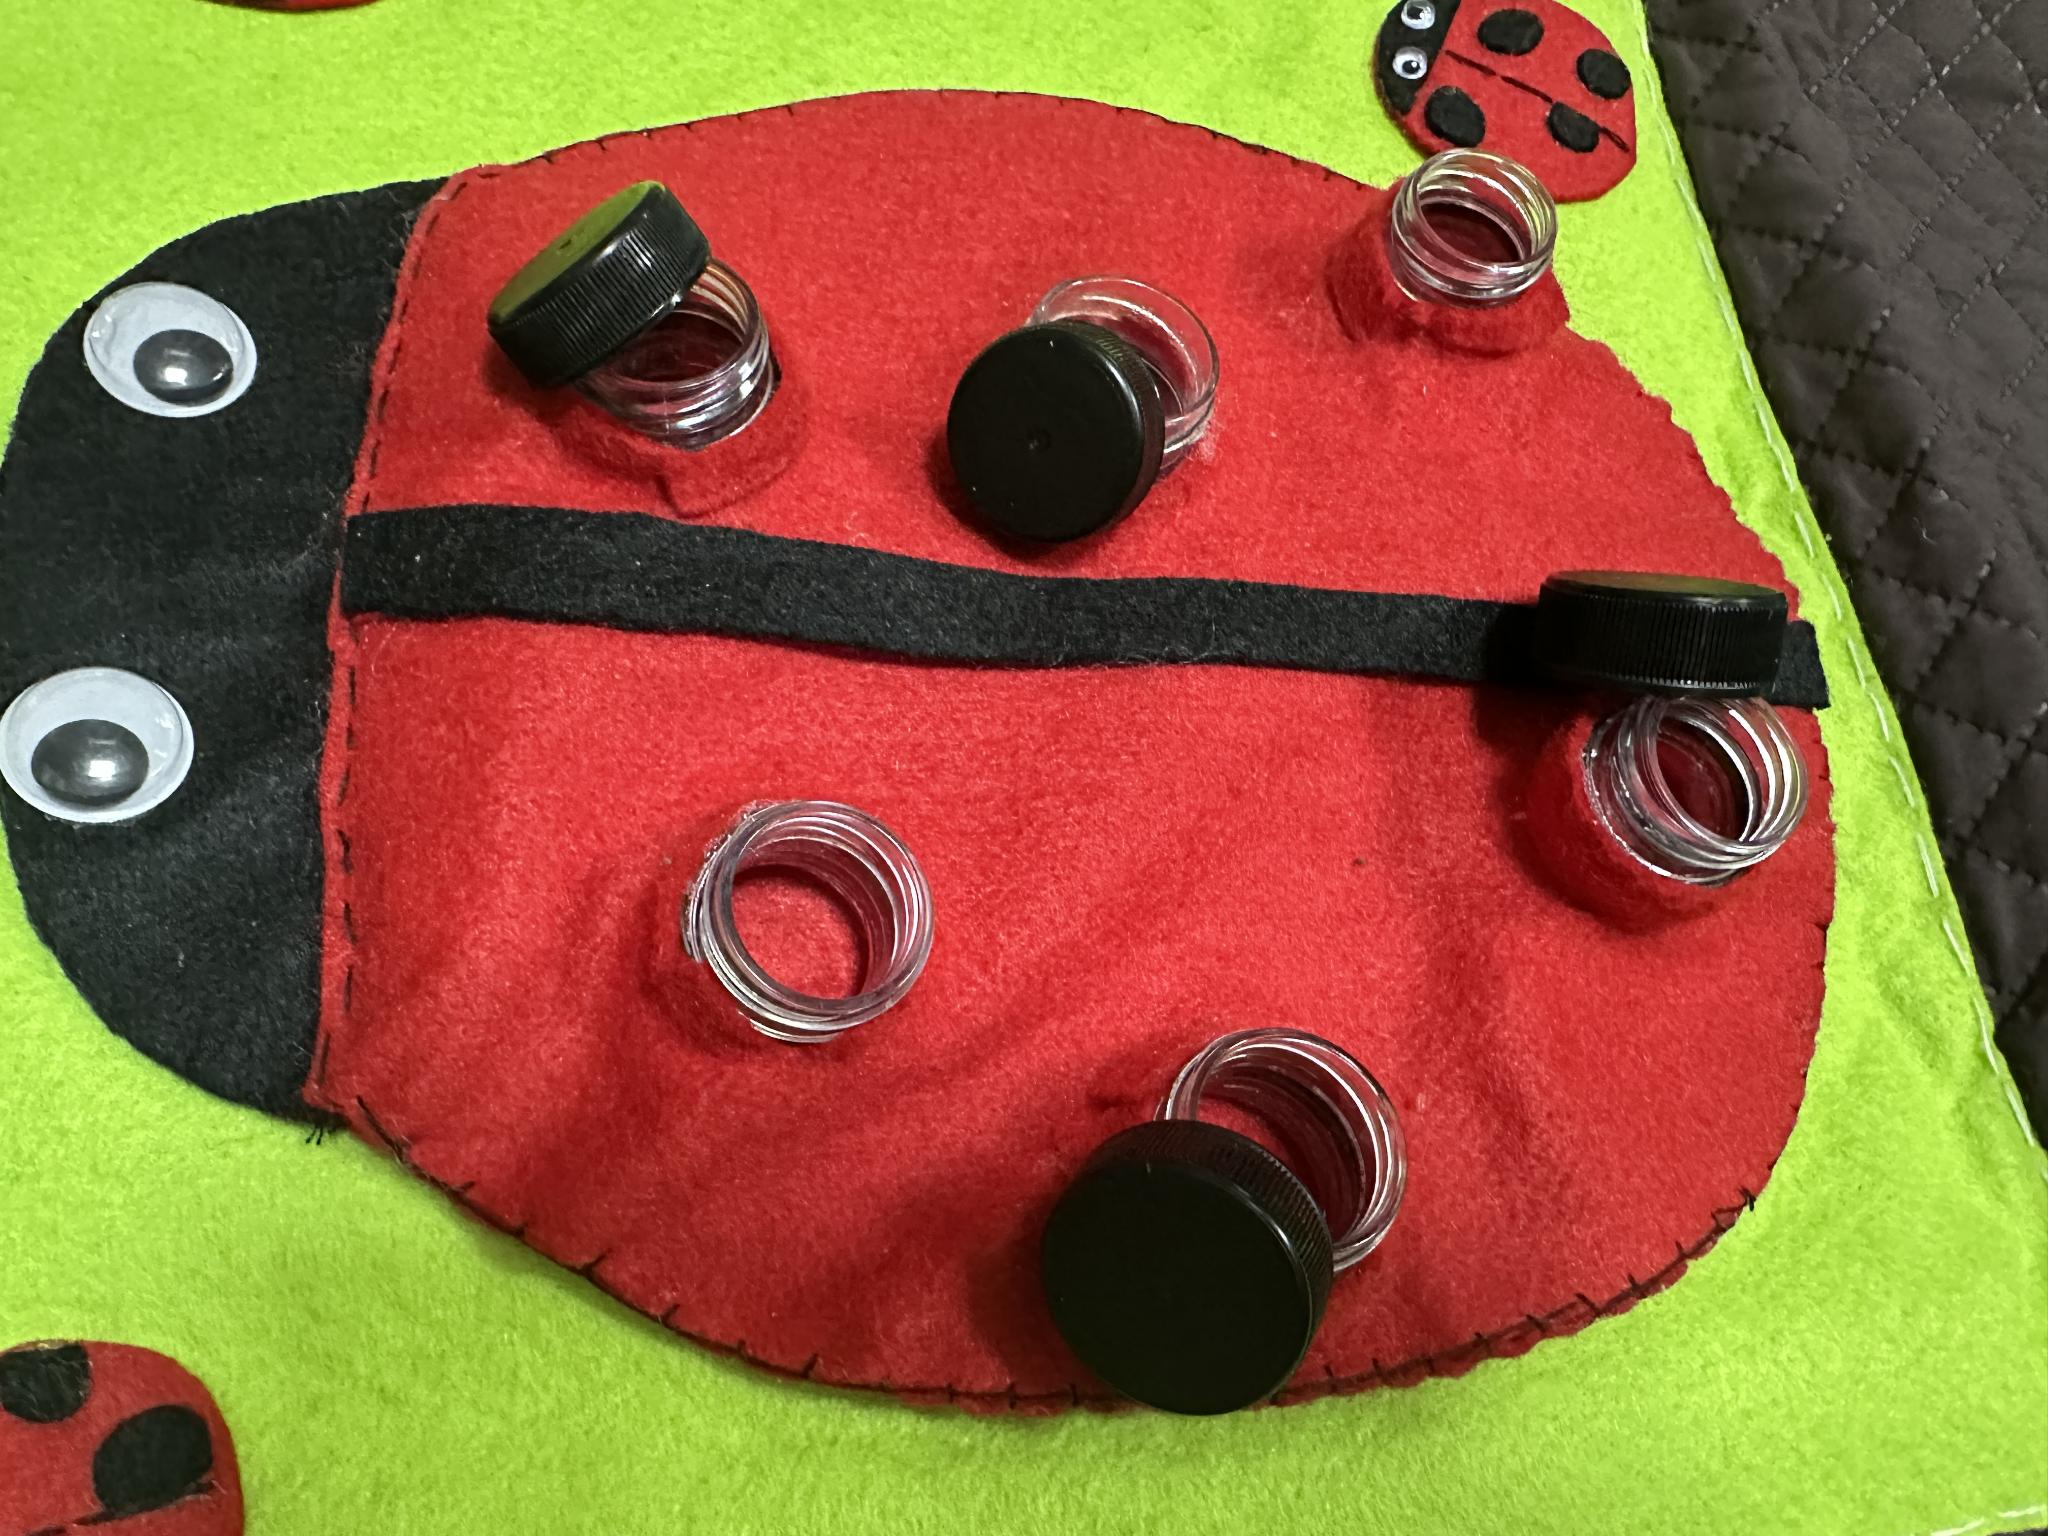cap_ng: (1019, 1021, 1427, 1409), (892, 245, 1288, 584), (1493, 542, 1816, 921), (481, 171, 816, 481)
